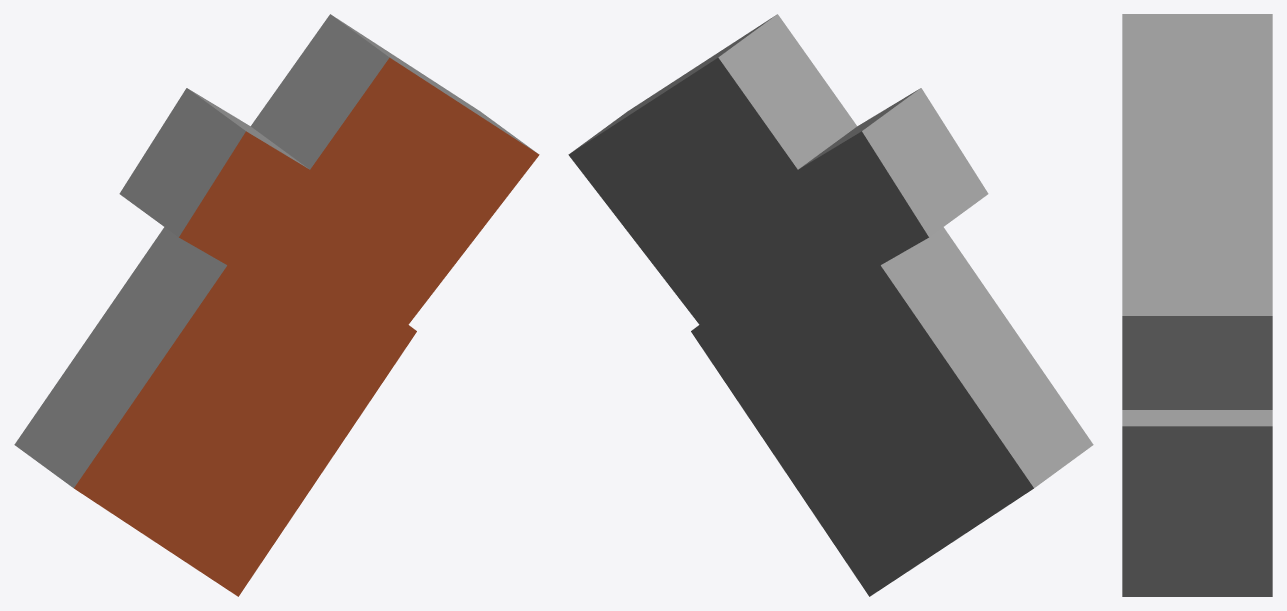
The model's file is construction_1121_assumed_A_Casa_h6m.obj.
3 renders of one model, left to right at view 1: azimuth 30°, elevation 25°; view 2: azimuth 150°, elevation 25°; view 3: azimuth 270°, elevation 25°, orthographic. The views are drawn at different scales.
Parts seen in each view (by area): view 1: construction_1121_assumed_A_Casa; view 2: construction_1121_assumed_A_Casa; view 3: construction_1121_assumed_A_Casa.
Part boxes in pixels (x1,y1,x2,y2): construction_1121_assumed_A_Casa: (14,14,539,596); construction_1121_assumed_A_Casa: (568,14,1093,596); construction_1121_assumed_A_Casa: (1122,14,1272,596).
Bounding box in the file's own units: 27.15 × 27.98 × 6.
